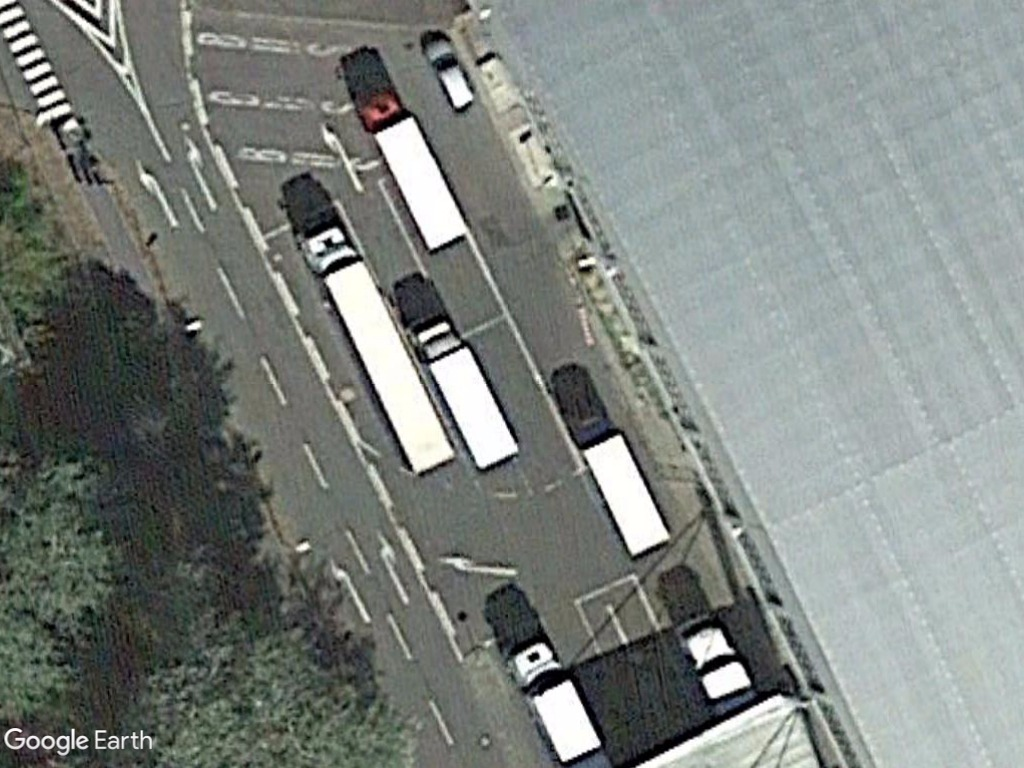car: (416, 31, 480, 116)
longvehicle: (302, 217, 460, 481), (358, 84, 479, 259)
truck: (572, 424, 681, 567), (415, 322, 523, 465), (509, 635, 604, 765)
